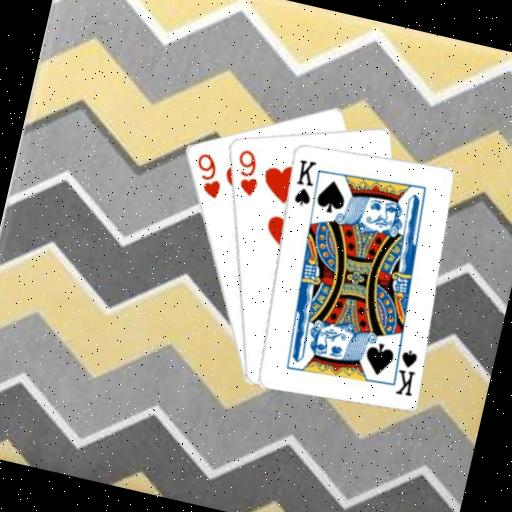9H: (186, 148, 229, 202), (227, 144, 267, 199)
KS: (385, 340, 424, 399), (286, 154, 320, 209)
